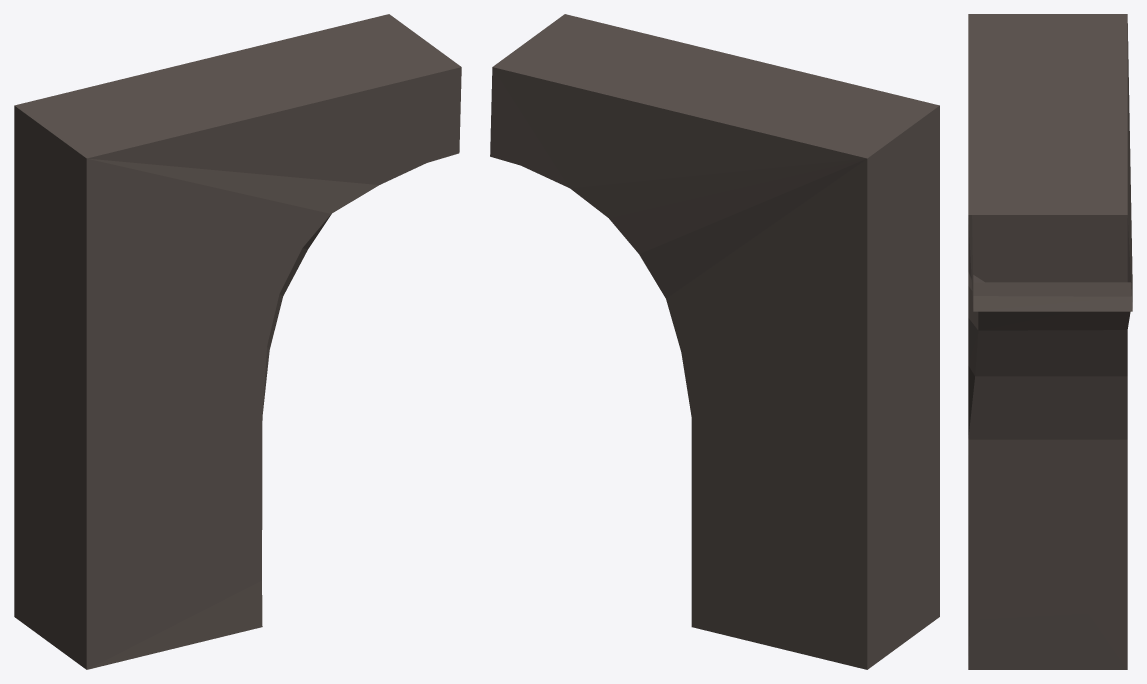
The model's file is MCastle_WallArch_01.FBX.
3 views of the same model, side by side, from view 1: azimuth 30°, elevation 25°; view 2: azimuth 150°, elevation 25°; view 3: azimuth 270°, elevation 25° (orthographic). The views are drawn at different scales.
Parts seen in each view (by area): view 1: MCastle_WallArch_01_LOD0; view 2: MCastle_WallArch_01_LOD0; view 3: MCastle_WallArch_01_LOD0.
Part boxes in pixels (x1,y1,x2,y2): MCastle_WallArch_01_LOD0: (14, 14, 461, 669); MCastle_WallArch_01_LOD0: (490, 14, 939, 669); MCastle_WallArch_01_LOD0: (968, 14, 1132, 669).
Bounding box in the file's own units: 4.04 × 5.26 × 1.39.
